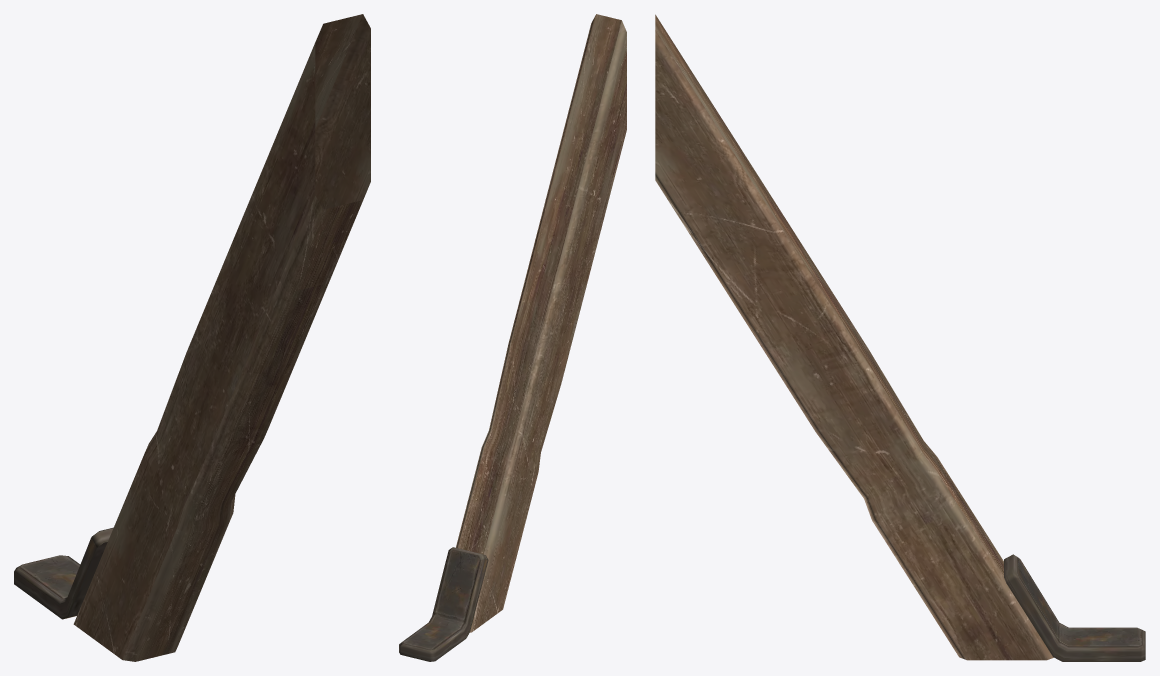
3 views of the same model, side by side, from view 1: azimuth 30°, elevation 25°; view 2: azimuth 150°, elevation 25°; view 3: azimuth 270°, elevation 25° (orthographic). The views are drawn at different scales.
Visible parts, largest first — view 1: SM_DR_Wood_Support_02_LOD0; view 2: SM_DR_Wood_Support_02_LOD0; view 3: SM_DR_Wood_Support_02_LOD0.
Boxes of the visible parts, <box> form: SM_DR_Wood_Support_02_LOD0: <box>14,14,370,661</box>; SM_DR_Wood_Support_02_LOD0: <box>399,14,626,661</box>; SM_DR_Wood_Support_02_LOD0: <box>655,14,1145,661</box>.
Size of the model in its own units: 0.2562 by 3.34 by 2.36.
Materials: 2 (2 with a texture image).
